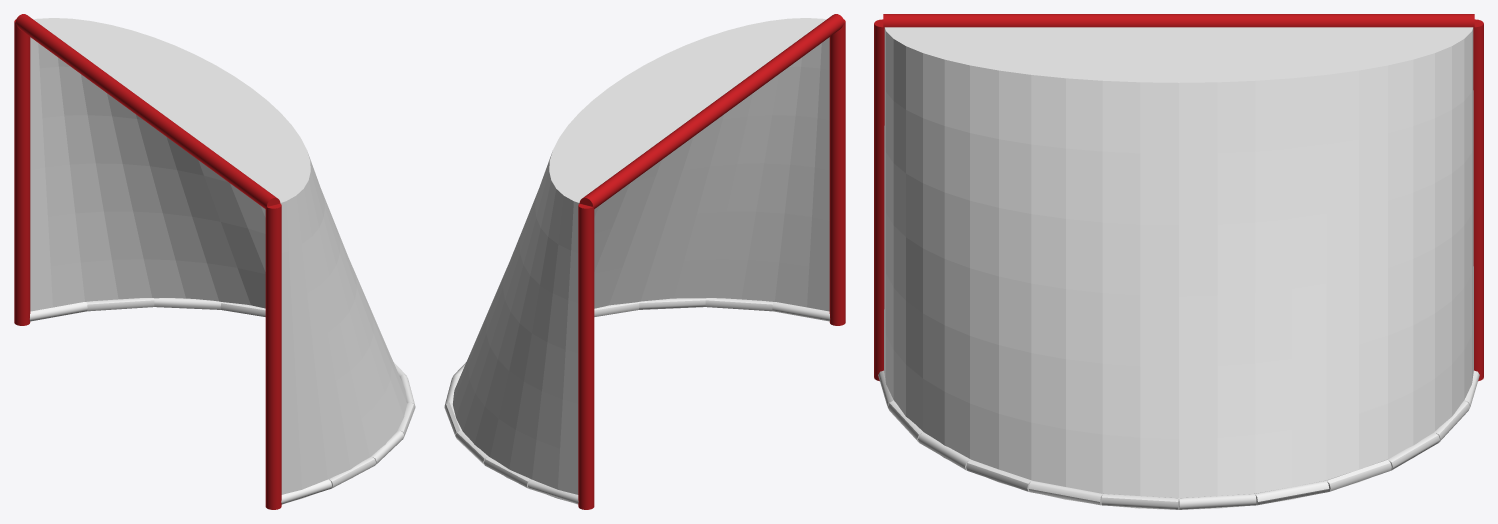
The model's file is porteria.obj.
The picture shows the model from 3 angles, left to right: view 1: azimuth 30°, elevation 25°; view 2: azimuth 150°, elevation 25°; view 3: azimuth 270°, elevation 25°; orthographic projection. The views are drawn at different scales.
Visible parts, largest first — view 1: porteria; view 2: porteria; view 3: porteria.
Part boxes in pixels (x1,y1,x2,y2): porteria: [14, 14, 415, 509]; porteria: [444, 14, 845, 509]; porteria: [874, 14, 1483, 509].
Size of the model in its own units: 1.05 by 1.28 by 1.95.
Materials: 2 (2 with a texture image).
